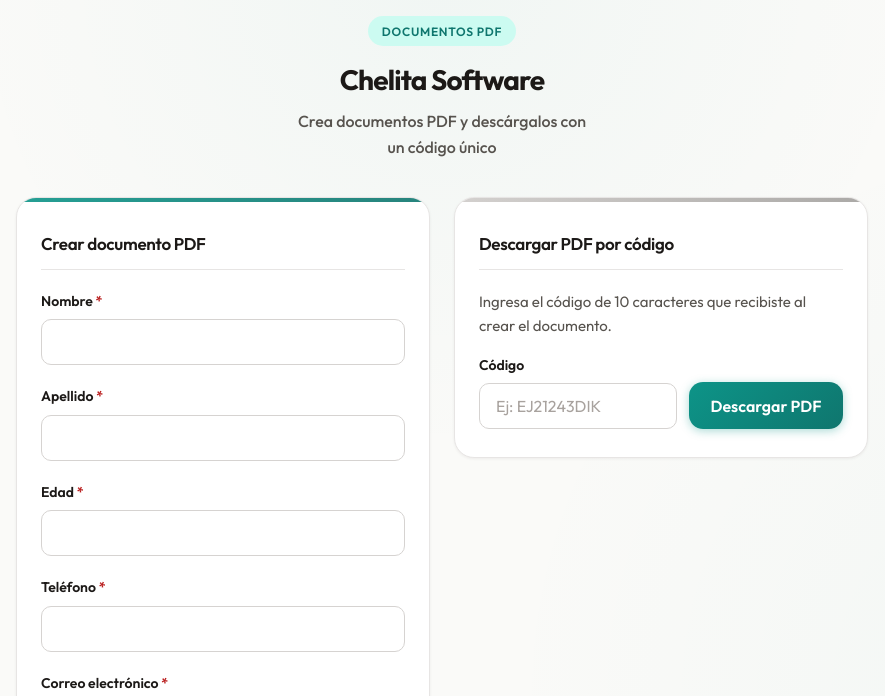
Test case: Descargar PDF por código › con código corto muestra error de 10 caracteres
The width and height of the screenshot is (885, 696).
Type "ABC" into the field with id "download-code" at (578, 406), box x1=479 y1=383 x2=677 y2=429
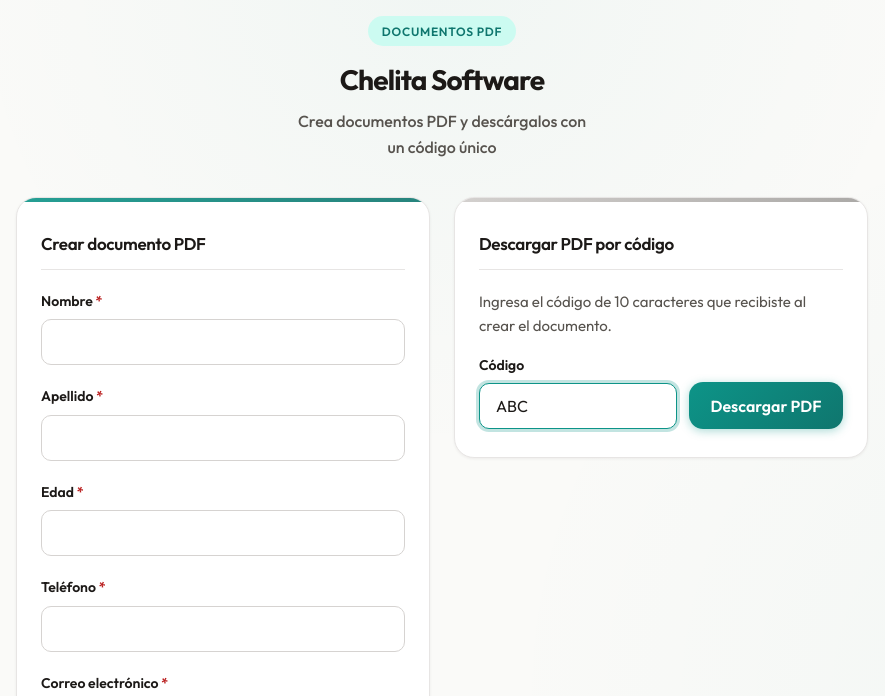
Click the button "Descargar PDF" at (766, 406), box x1=689 y1=382 x2=843 y2=429
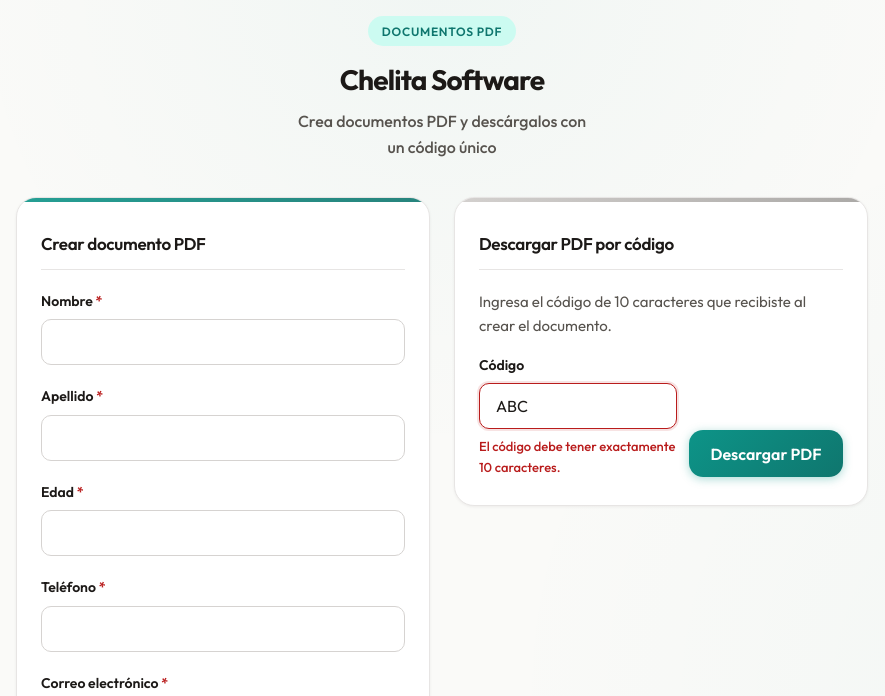
Expected: the text "El código debe tener exactamente 10 caracteres." is shown, x1=479 y1=436 x2=677 y2=477
